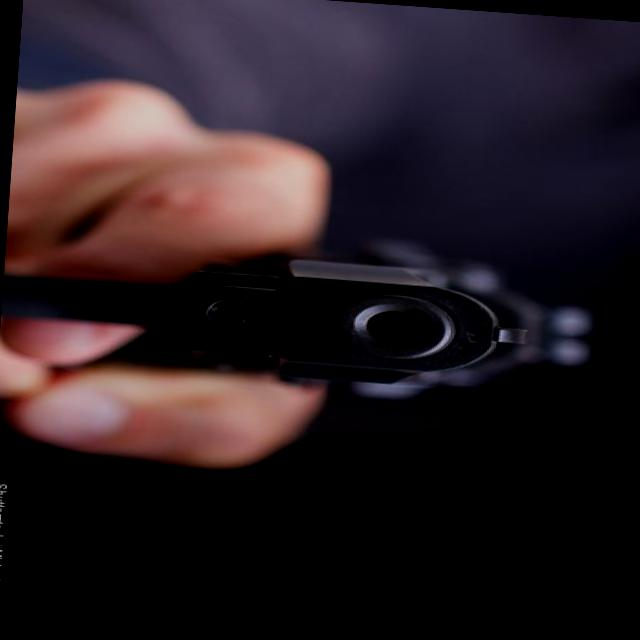handgun: (0, 220, 603, 416)
